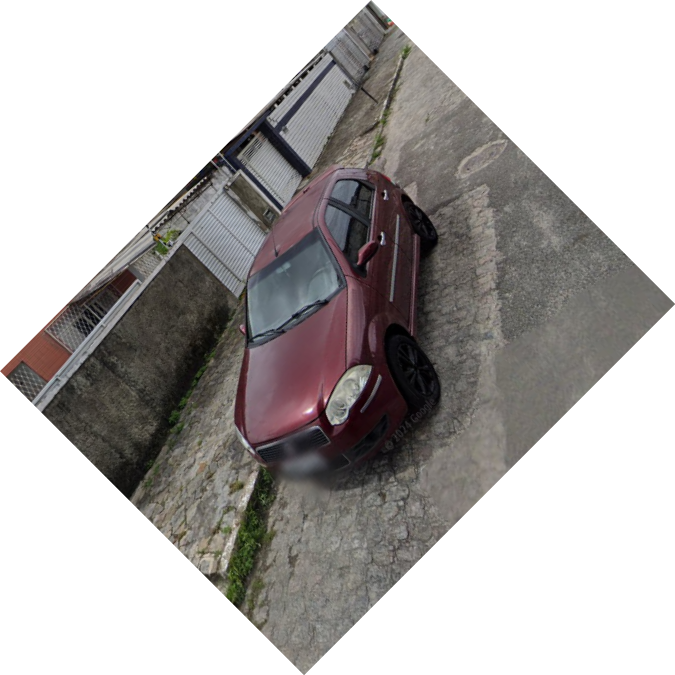car: (231, 166, 440, 496)
